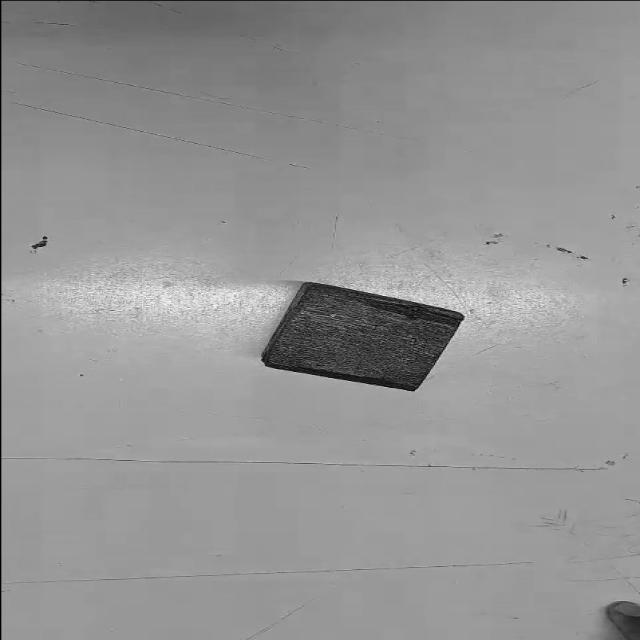bcube: (258, 282, 468, 392)
